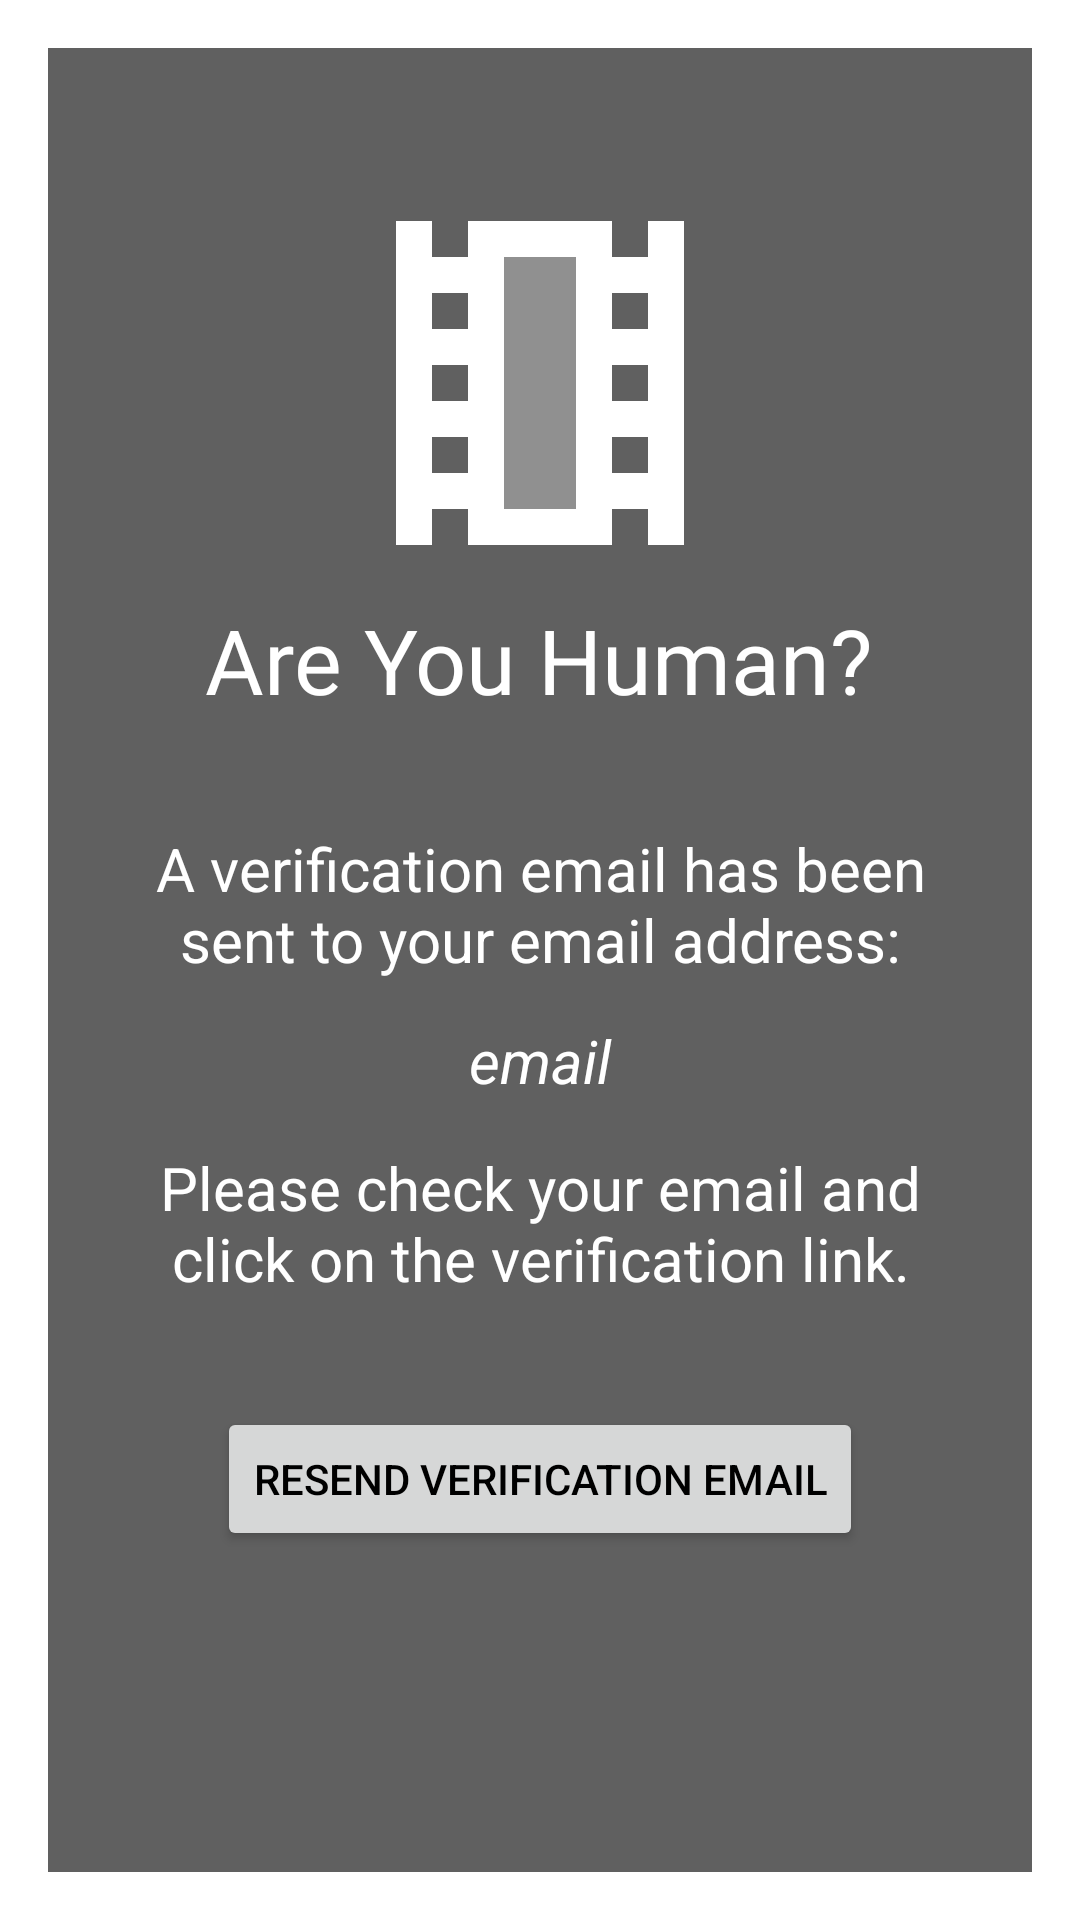

Point at icon controls on the screen. Image size 1080px×1920px, points as (x,y).
local movies: (540,383)
